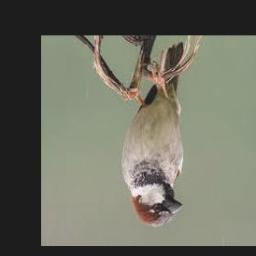Sparrow: (121, 43, 185, 228)
